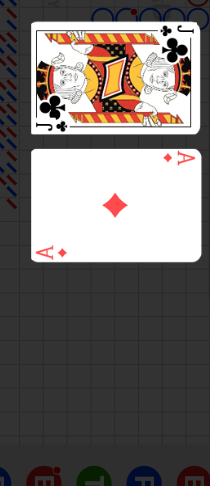AD: (34, 243, 70, 260)
JC: (157, 23, 195, 39)
